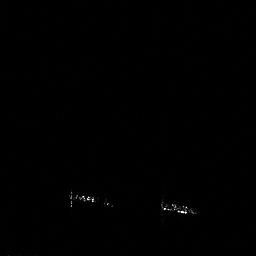ship: (64, 185, 118, 210), (156, 194, 203, 218)
